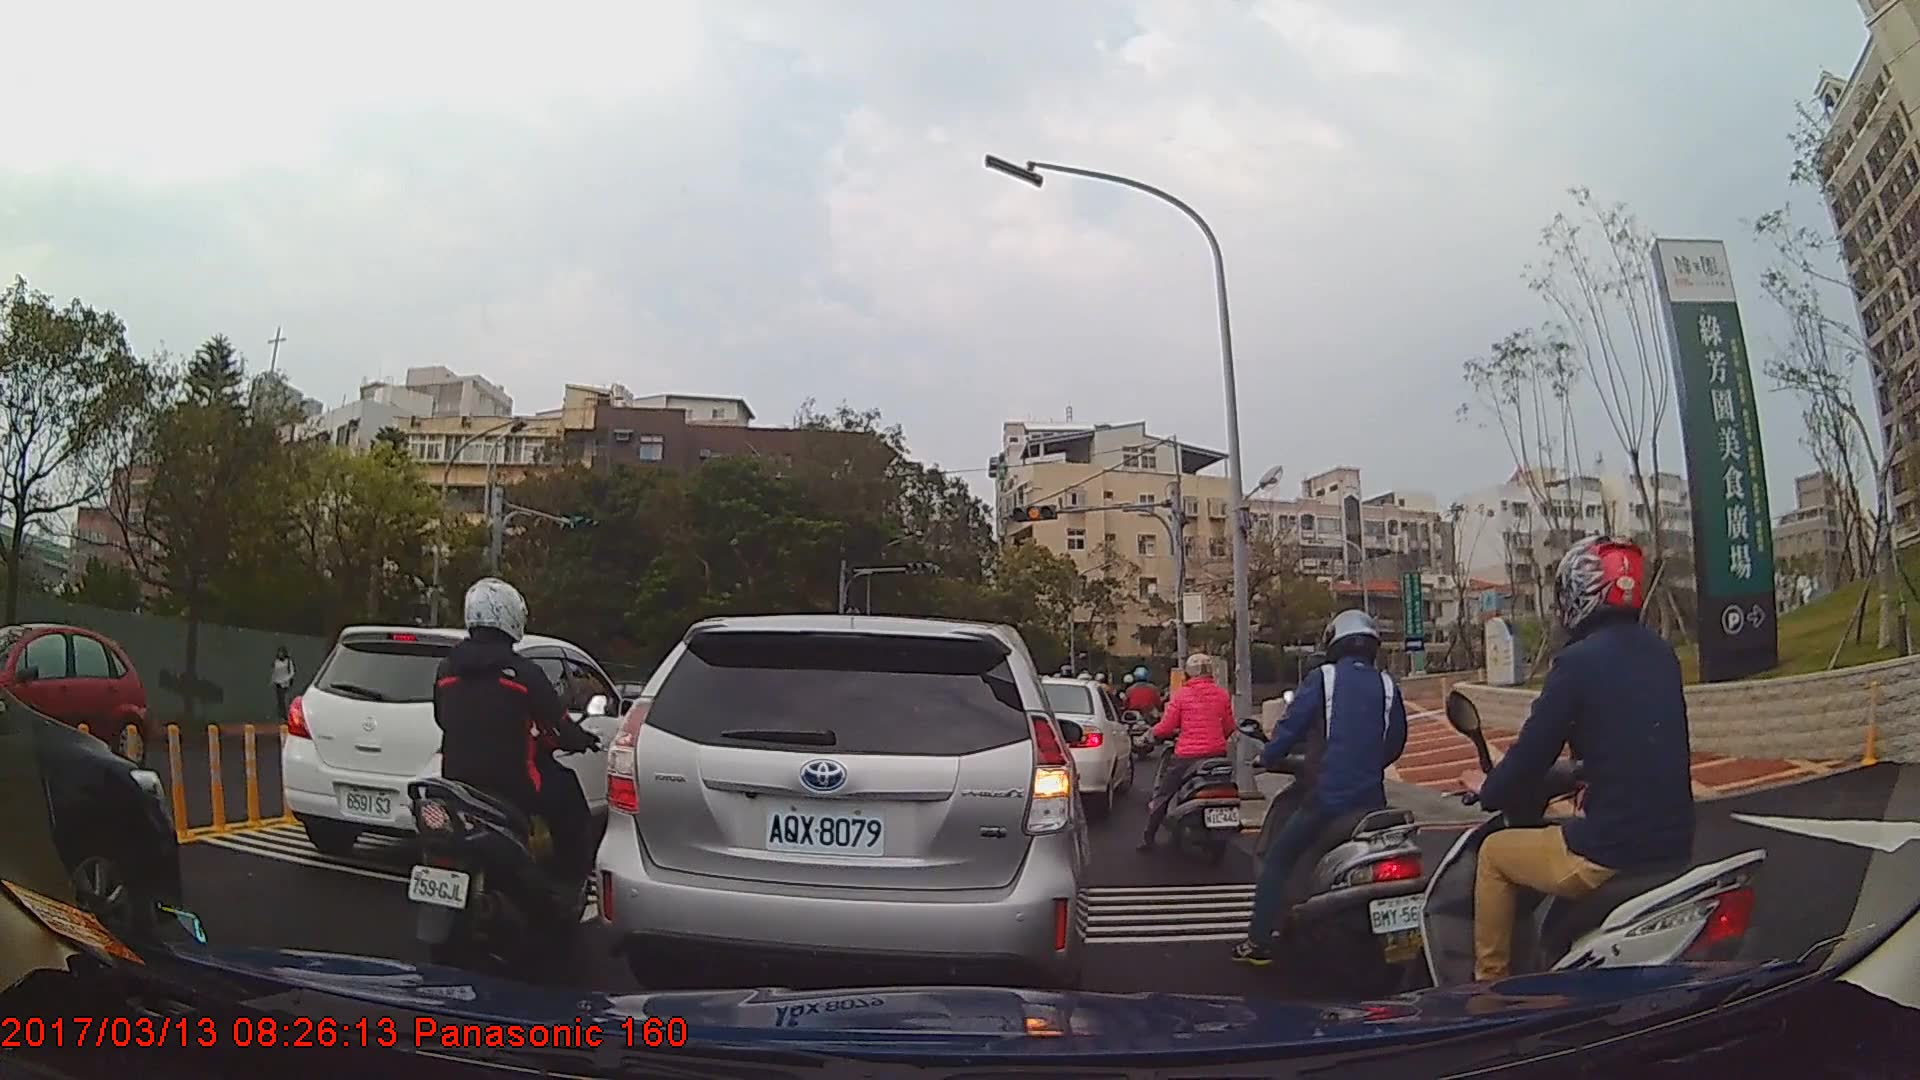pedestrian: (269, 647, 297, 725)
rider: (1423, 534, 1774, 1059), (408, 577, 606, 984), (1241, 608, 1439, 1000), (1139, 652, 1245, 866), (1123, 666, 1162, 763)
vehicle: (593, 613, 1089, 1000), (280, 626, 632, 865), (0, 679, 179, 952), (2, 619, 147, 763), (1024, 675, 1134, 814)
